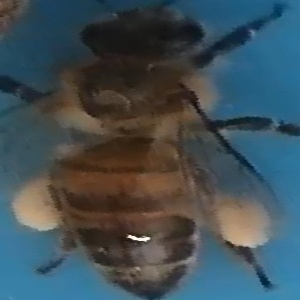bee: (38, 4, 293, 298)
